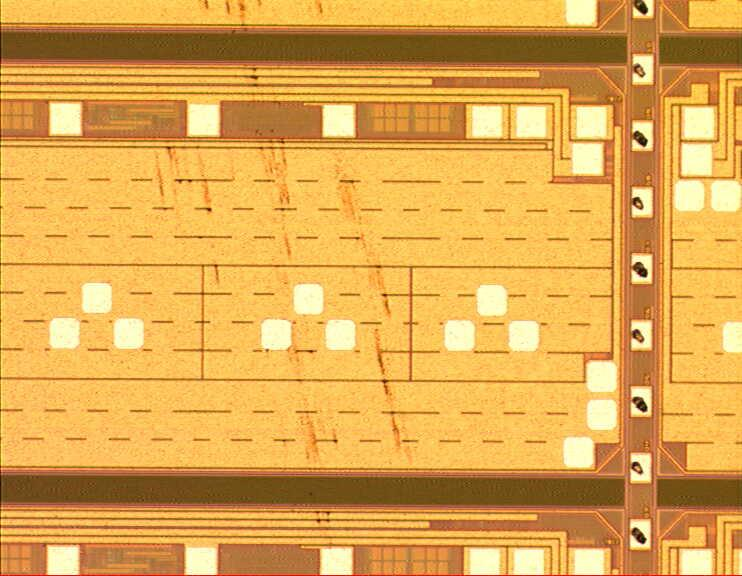SCRATCH: (144, 1, 421, 576)
